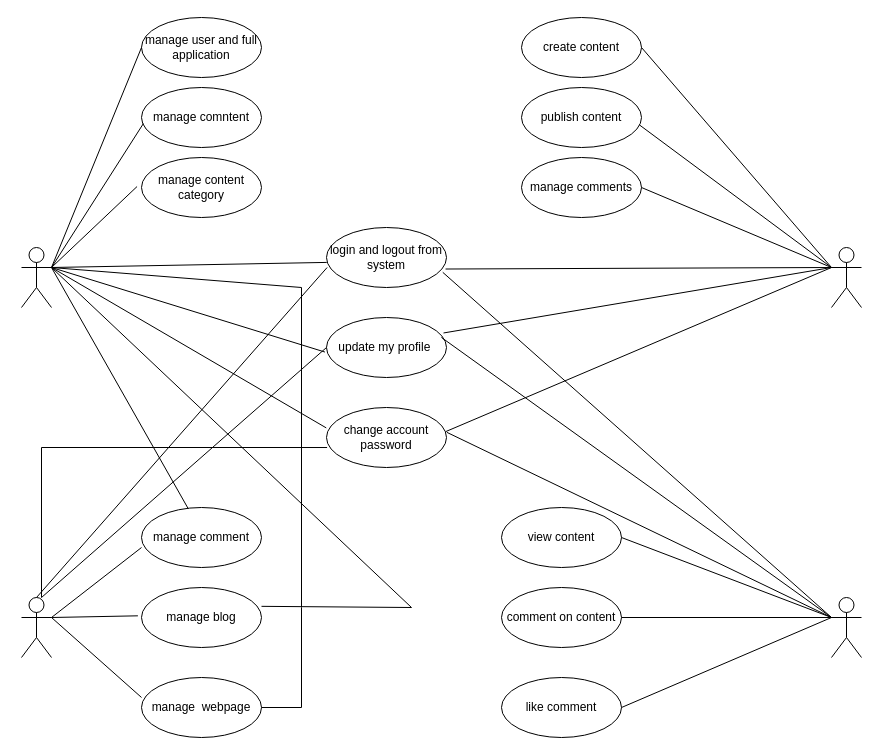
The diagram is 880 pixels wide and 755 high, and some of its shapes have lost their labels. Each missing label, with the centre of its shape:
admin: (x=36, y=277)
doctor: (x=846, y=277)
site user: (x=846, y=627)
system user: (x=36, y=627)
